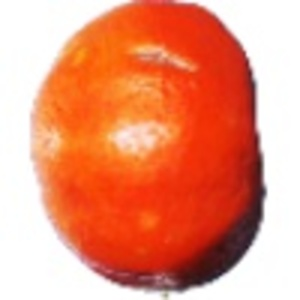tangerina: (29, 1, 267, 300)
